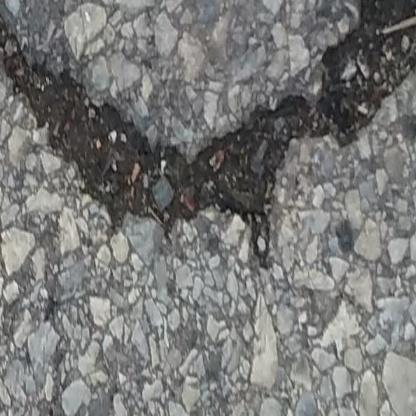Cracks: (0, 0, 416, 262)
